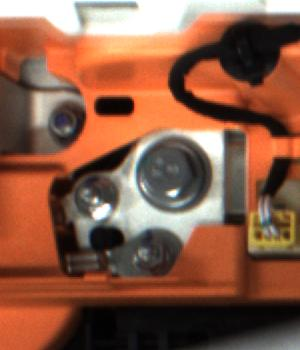nut_b: (134, 134, 216, 214)
